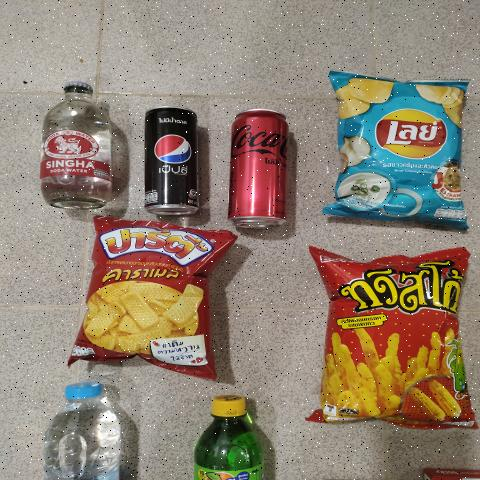coke_red: (224, 111, 284, 221)
lay_blue: (336, 76, 465, 212)
party_red: (93, 224, 212, 371)
pepsi_black: (143, 106, 203, 208)
singha_soda: (27, 69, 115, 205)
twisco: (330, 255, 470, 416)
